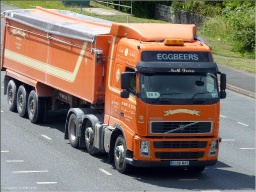truck: (1, 7, 219, 170)
